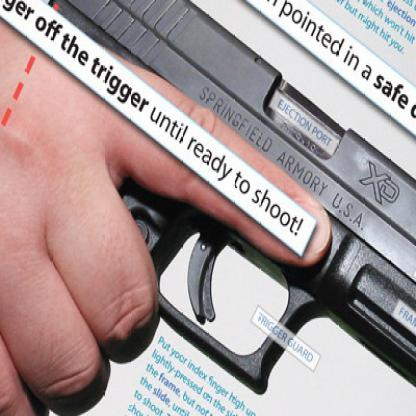gun: (43, 0, 415, 415)
